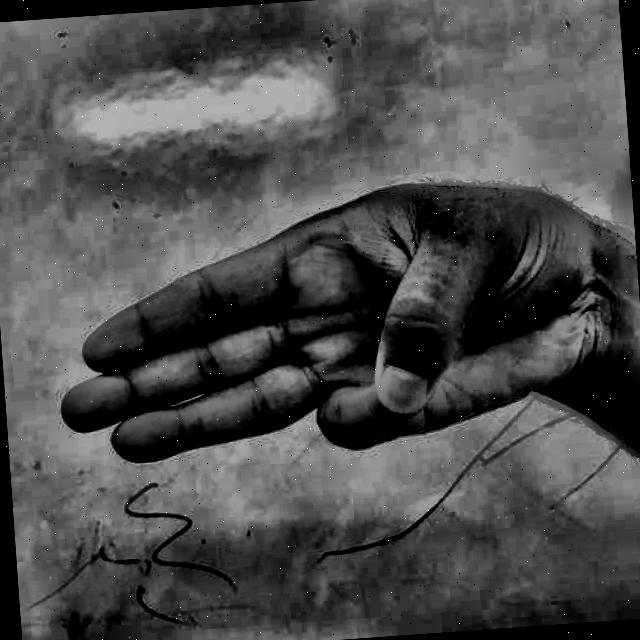Ma: (24, 165, 634, 534)
